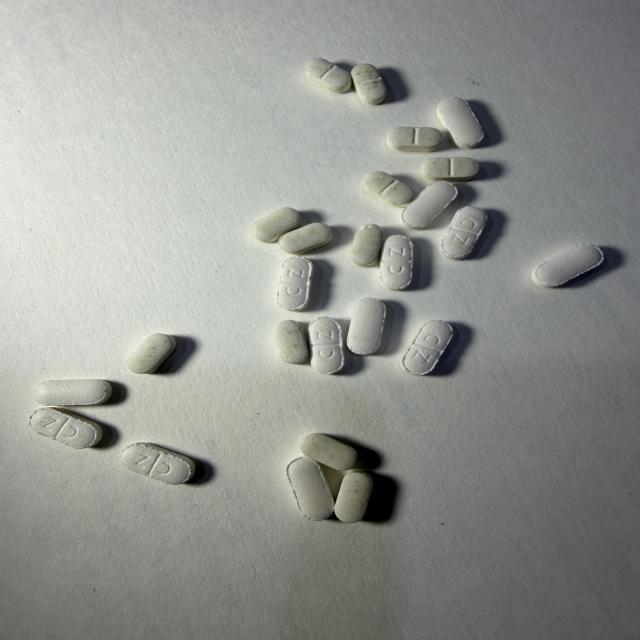pill: (532, 244, 604, 287), (121, 443, 195, 484), (30, 407, 102, 448), (287, 457, 333, 520), (403, 320, 452, 375), (401, 182, 457, 229), (441, 206, 487, 259), (437, 98, 484, 148), (347, 298, 386, 355), (301, 433, 357, 470), (127, 333, 176, 374), (309, 317, 344, 374), (335, 471, 373, 522), (35, 380, 112, 405), (278, 257, 313, 311), (381, 235, 413, 290), (364, 172, 412, 207), (252, 208, 300, 242), (279, 223, 332, 253), (305, 59, 351, 93), (351, 64, 386, 105), (349, 224, 382, 266), (276, 320, 308, 363), (422, 157, 479, 181), (388, 127, 442, 152)
